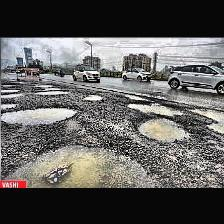pothole: (1, 142, 158, 186), (0, 105, 76, 125), (138, 116, 188, 140), (128, 100, 180, 116), (84, 92, 103, 100), (0, 86, 22, 92), (36, 90, 68, 94), (0, 92, 22, 96), (34, 84, 52, 86)
